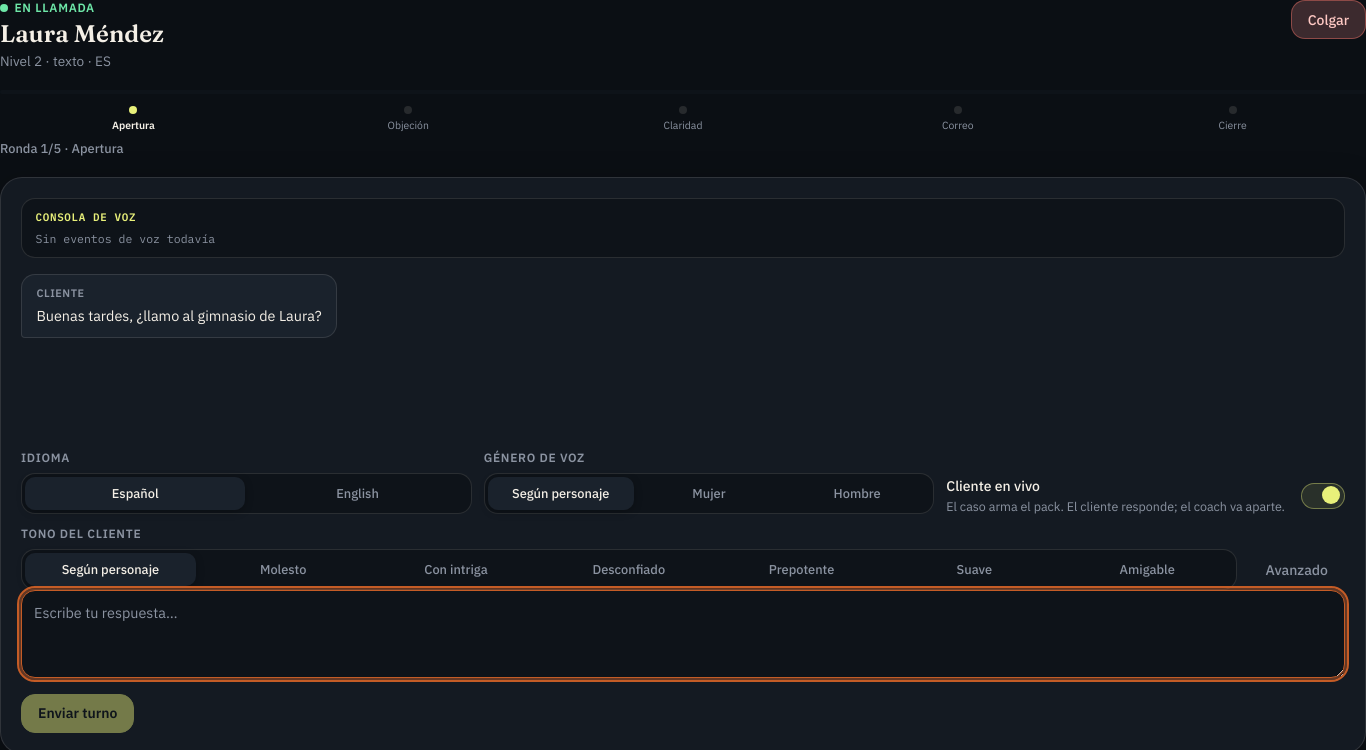
Test: custom scenario live-call copy › advances the progress label to the next authored phase
Type "Hola Laura" into the text box labelled "tu respuesta" at (683, 634), box x1=21 y1=590 x2=1345 y2=678
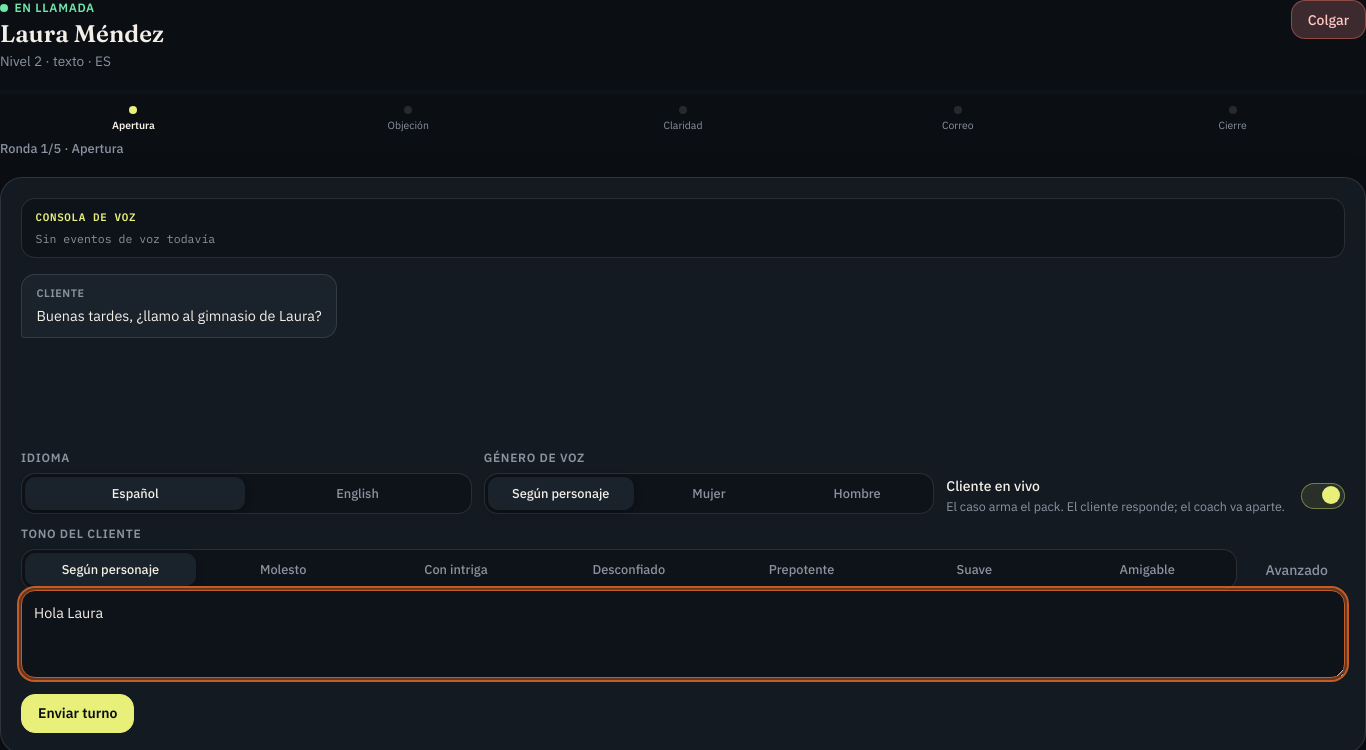
Click the button "Enviar turno" at (78, 713), box x1=21 y1=694 x2=134 y2=733
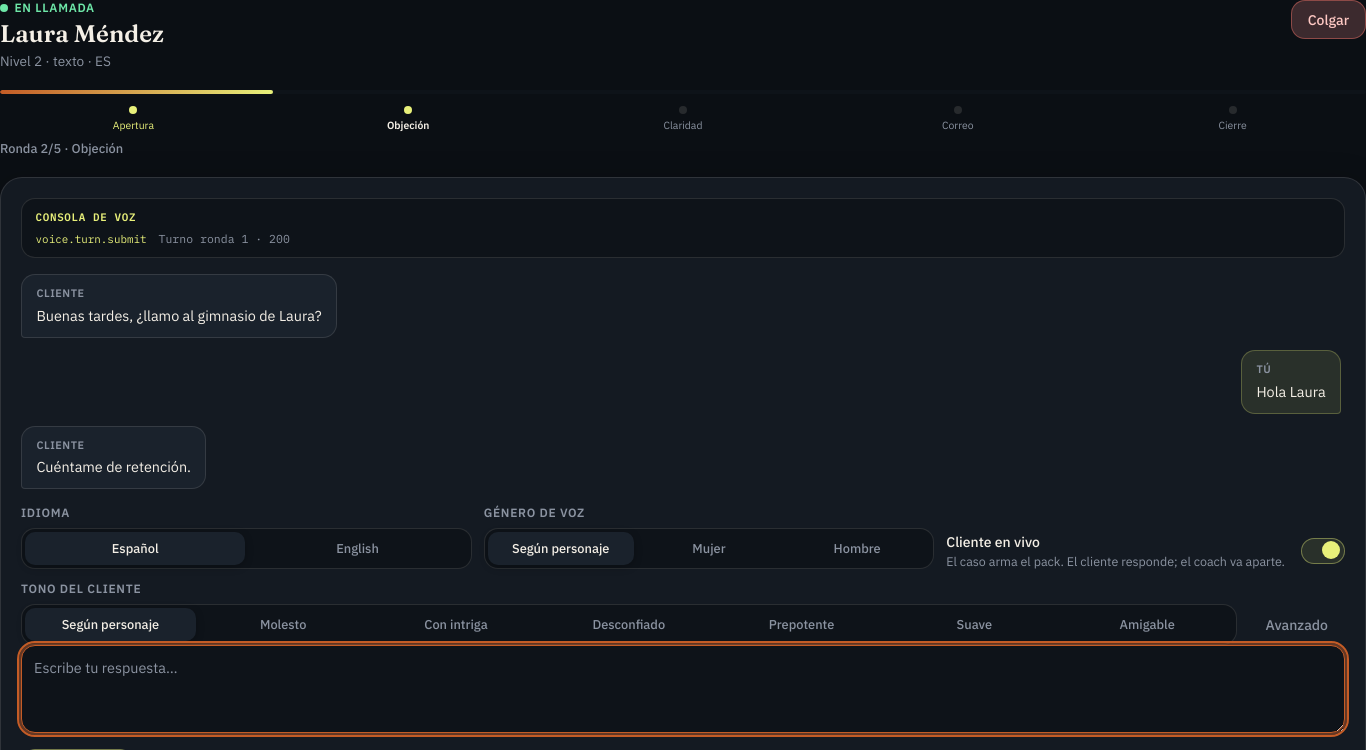
Expected: the text "Ronda 2/5 · Objeción" is shown, x1=0 y1=140 x2=123 y2=157
